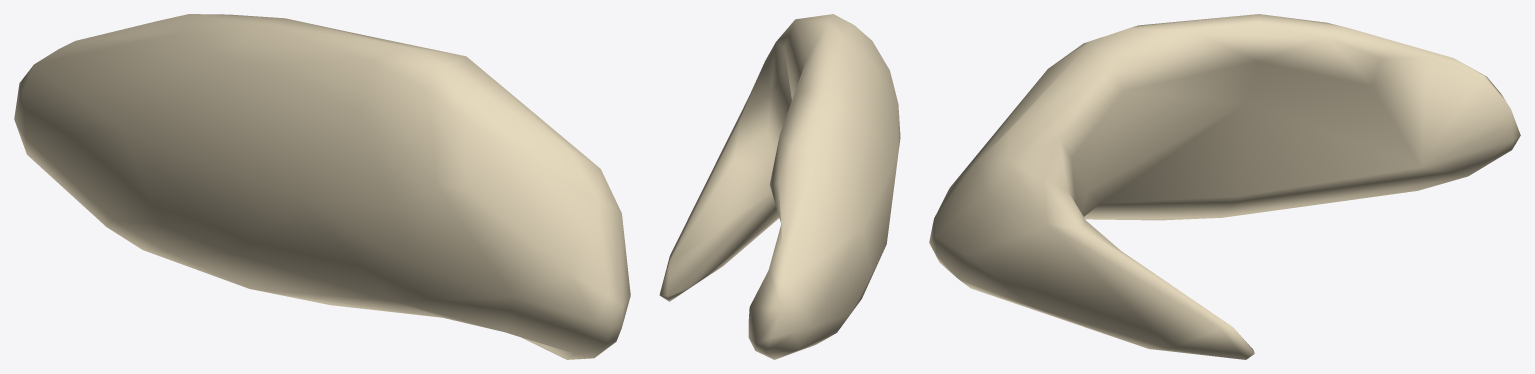
Rendered from esqueleto-major-alar-cartilage-r.glb.
The picture shows the model from 3 angles, left to right: view 1: azimuth 30°, elevation 25°; view 2: azimuth 150°, elevation 25°; view 3: azimuth 270°, elevation 25°; orthographic projection. The views are drawn at different scales.
Visible parts, largest first — view 1: Major alar cartilage.r; view 2: Major alar cartilage.r; view 3: Major alar cartilage.r.
Boxes of the visible parts, bbox=[...] form: Major alar cartilage.r: bbox=[14, 14, 630, 359]; Major alar cartilage.r: bbox=[659, 14, 900, 359]; Major alar cartilage.r: bbox=[929, 14, 1520, 359].
Size of the model in its own units: 0.0146 by 0.0142 by 0.0274.
